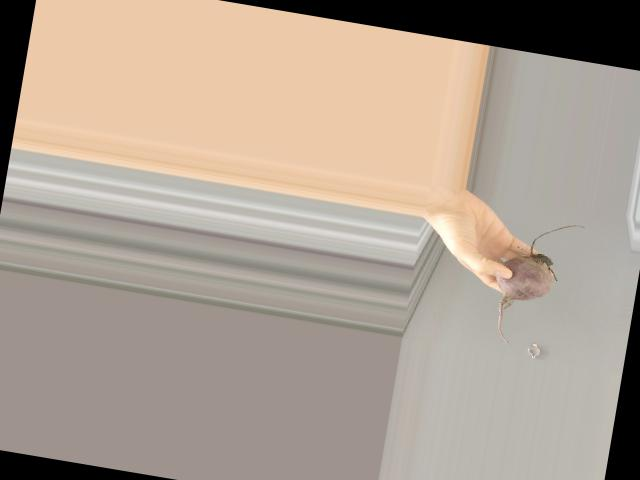beet: (485, 212, 586, 353)
